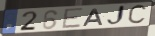2: (20, 10, 39, 31)
6: (42, 9, 61, 31)
A: (82, 8, 105, 27)
C: (127, 3, 149, 26)
E: (61, 7, 85, 30)
J: (106, 4, 127, 27)
